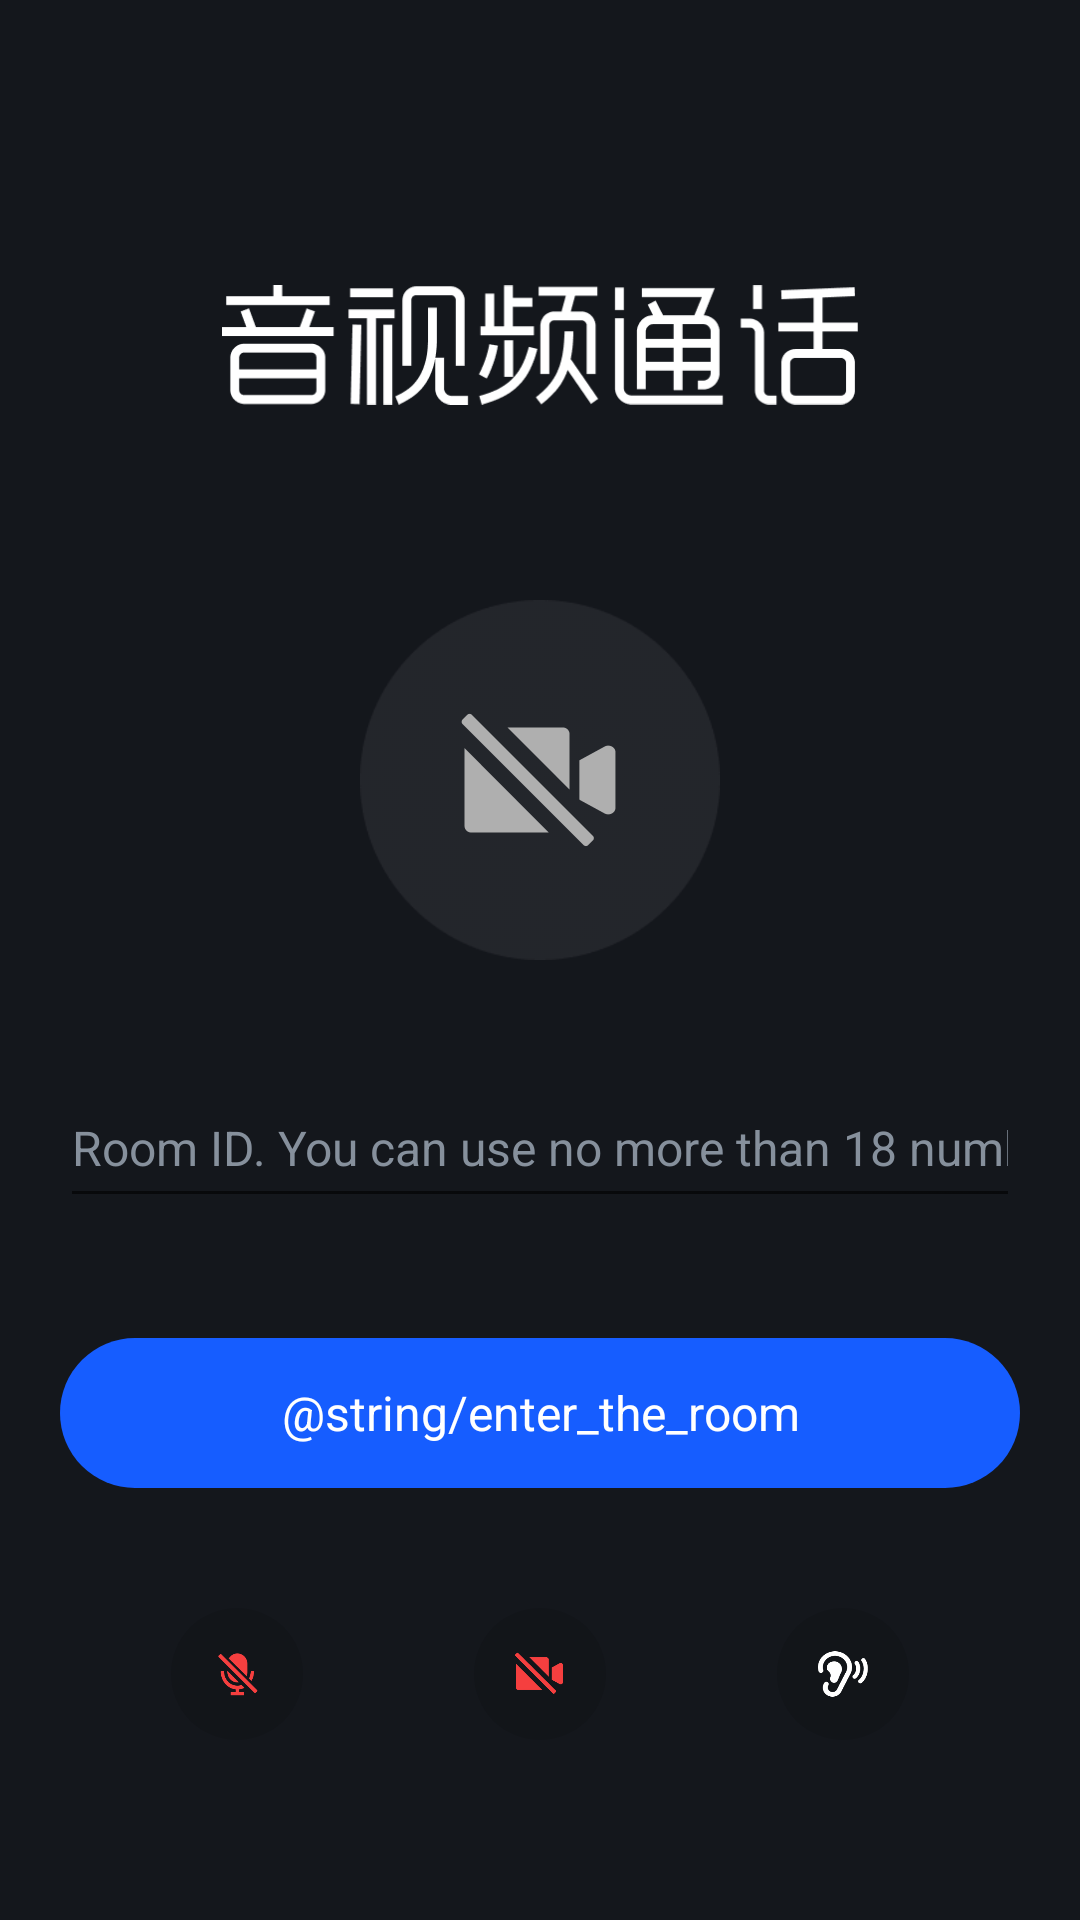

Where to tap for icons on this 1080*1920 app screen, as (x=x, y=y):
camera disable: (x=539, y=1673)
camera off: (x=538, y=779)
earpiece: (x=843, y=1674)
microphone disable: (x=238, y=1674)
